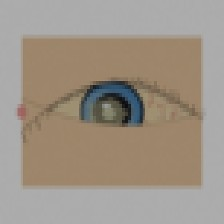corneal_ulcer: (78, 91, 136, 138)
